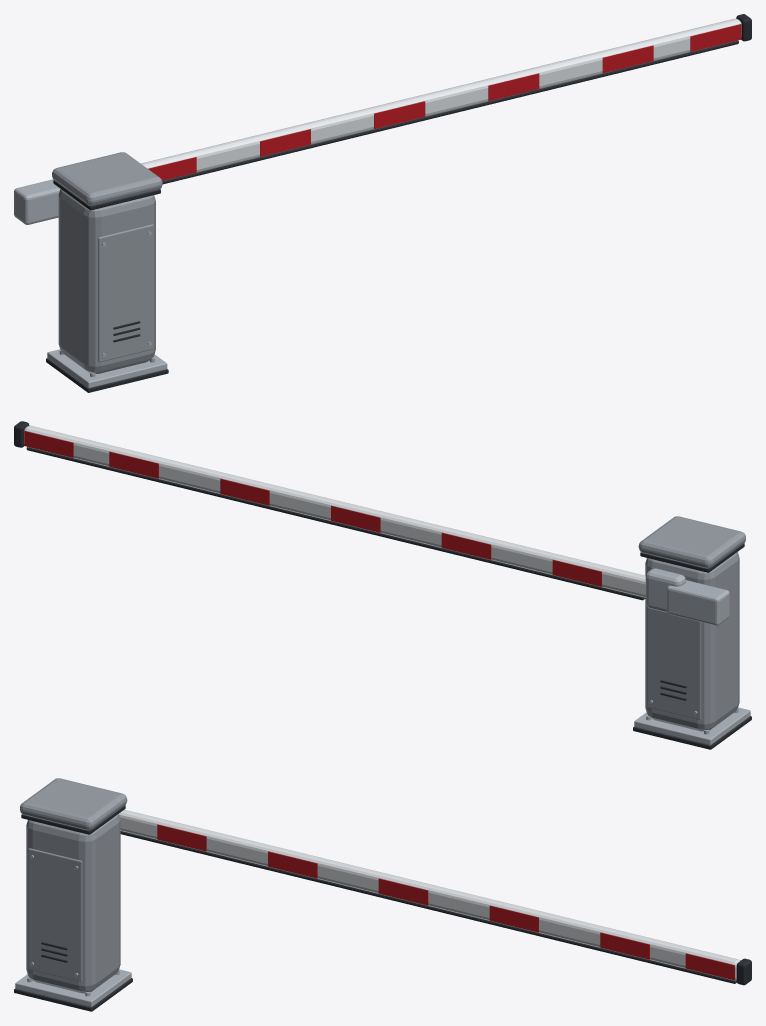
File: barrier.glb
3 renders of one model, top to bottom at view 1: azimuth 30°, elevation 25°; view 2: azimuth 150°, elevation 25°; view 3: azimuth 330°, elevation 25°, orthographic. The views are drawn at different scales.
Parts seen in each view (by area): view 1: Arm extrusion, Cabinet, Service door, Cast top cover, Rubber safety edge, Counterweight, Anchor plate, Reflector.004, Reflector.006, Reflector.008, Reflector.010, Reflector.002 (+2 smaller); view 2: Arm extrusion, Cabinet, Service door.001, Cast top cover, Rubber safety edge, Counterweight, Anchor plate, Drive hub, Reflector.003, Reflector.009, Reflector.005, Reflector.007 (+3 smaller); view 3: Arm extrusion, Cabinet, Service door, Cast top cover, Rubber safety edge, Anchor plate, Reflector.004, Reflector.002, Reflector.008, Reflector.010, Reflector, Reflector.006 (+2 smaller).
Boxes of the visible parts, x1,y1,x2,y2 form: Arm extrusion: (141,18,741,180); Cabinet: (58,189,155,373); Service door: (98,224,153,362); Cast top cover: (52,152,162,205); Rubber safety edge: (162,41,738,184); Counterweight: (14,179,60,224); Anchor plate: (47,349,167,388); Reflector.004: (374,101,425,128); Reflector.006: (488,73,539,101); Reflector.008: (602,45,653,73); Reflector.010: (690,24,741,51); Reflector.002: (260,129,310,156); Arm extrusion: (24,425,645,597); Cabinet: (645,552,739,731); Service door.001: (647,607,701,720); Cast top cover: (638,516,745,568); Rubber safety edge: (26,447,645,600); Counterweight: (666,580,729,625); Anchor plate: (634,707,750,745); Drive hub: (645,568,685,612); Reflector.003: (441,532,491,559); Reflector.009: (109,451,158,478); Reflector.005: (331,505,380,532); Reflector.007: (220,478,269,505); Arm extrusion: (119,809,740,980); Cabinet: (26,814,120,993); Service door: (28,848,82,982); Cast top cover: (20,778,127,830); Rubber safety edge: (120,831,736,983); Anchor plate: (15,969,131,1007); Reflector.004: (378,878,428,905); Reflector.002: (268,851,317,878); Reflector.008: (600,932,649,959); Reflector.010: (685,953,734,980); Reflector: (157,824,206,851); Reflector.006: (489,905,538,932).
Size of the model in its own units: 4.15 by 1.06 by 0.545.
